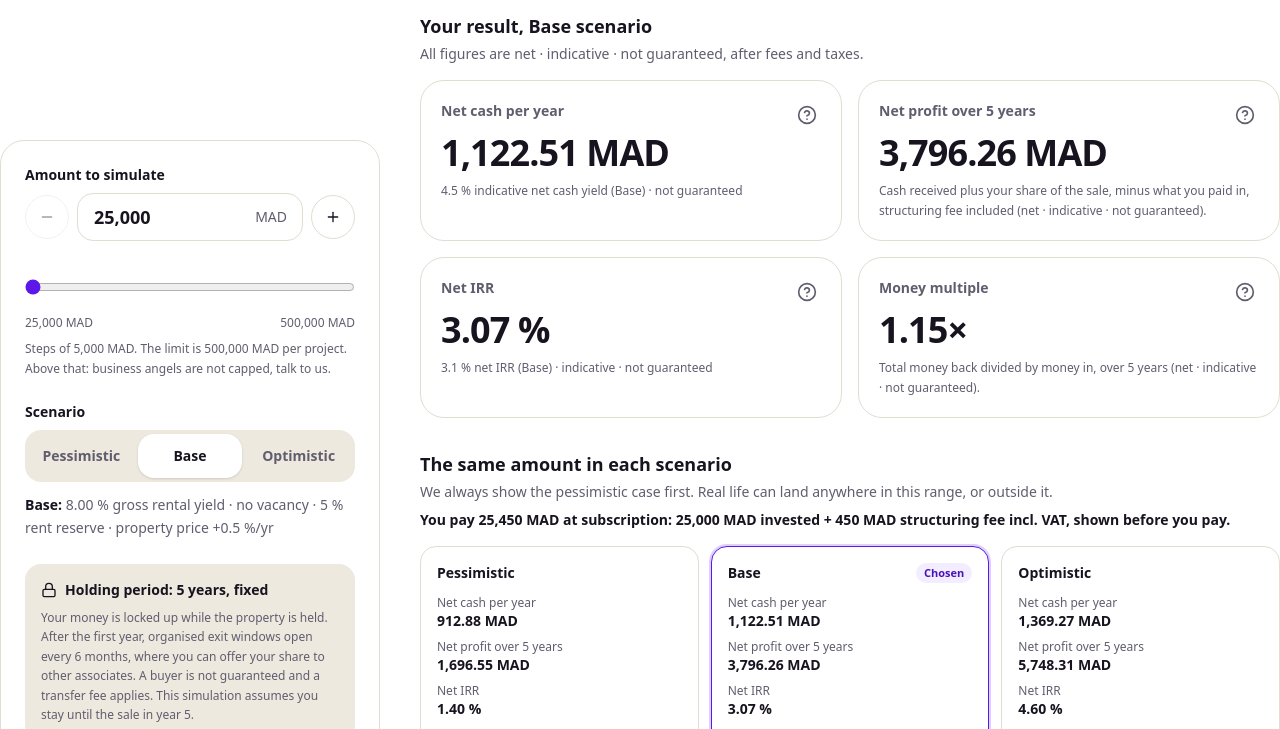
Test: Simulator › describes each scenario's assumptions from the model
The image size is (1280, 729).
Expected: the text "8.00 % gross rental yield · no vacancy" is shown, [25,495,343,537]
Click the radio button labelled "Pessimistic" at (81, 456), box [42,446,120,465]
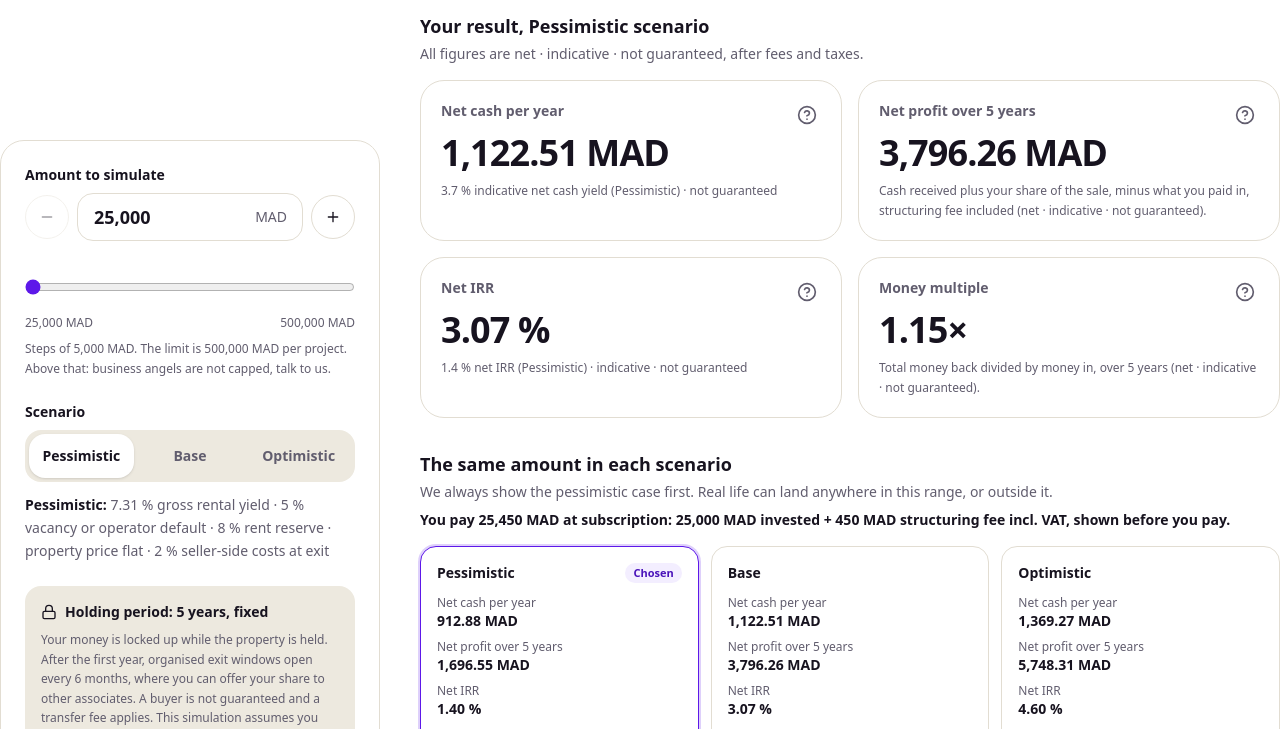
Result: the text "5 % vacancy or operator default" is shown at [25,495,331,560]
Click the radio button labelled "Optimistic" at (299, 456), box [262,446,335,465]
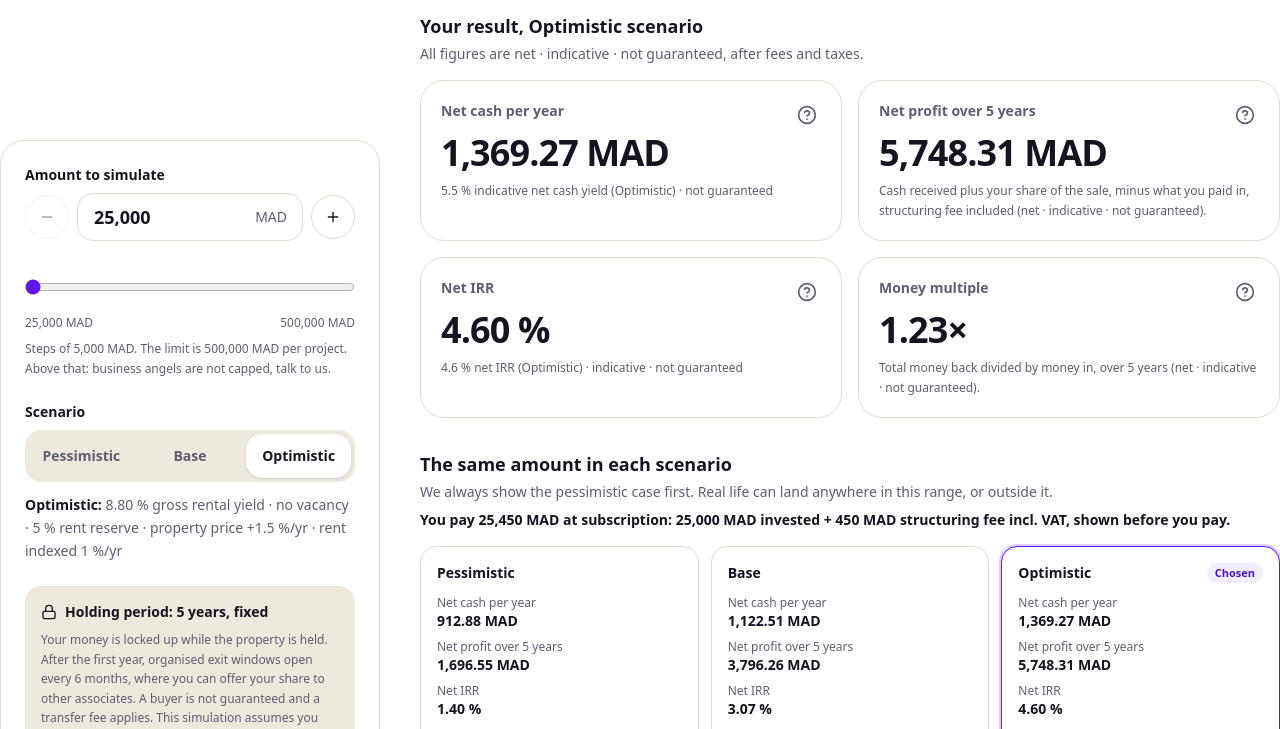
Result: the text "rent indexed 1 %/yr" is shown at [25,495,349,560]
